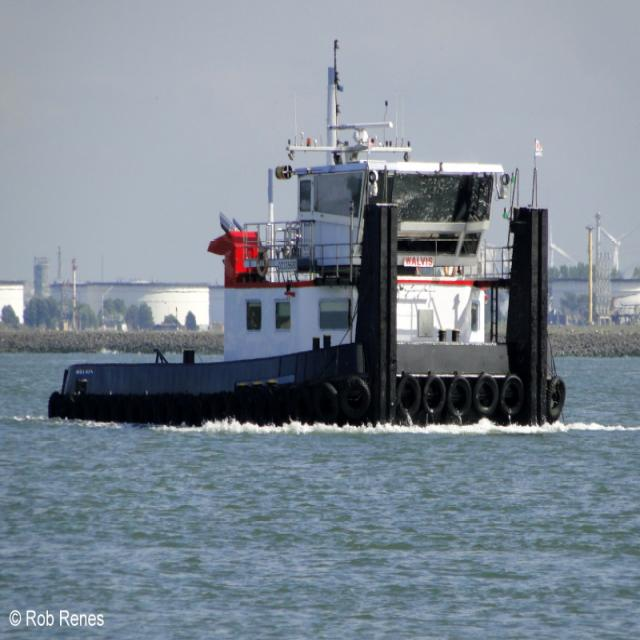tugboat: (45, 116, 571, 454)
